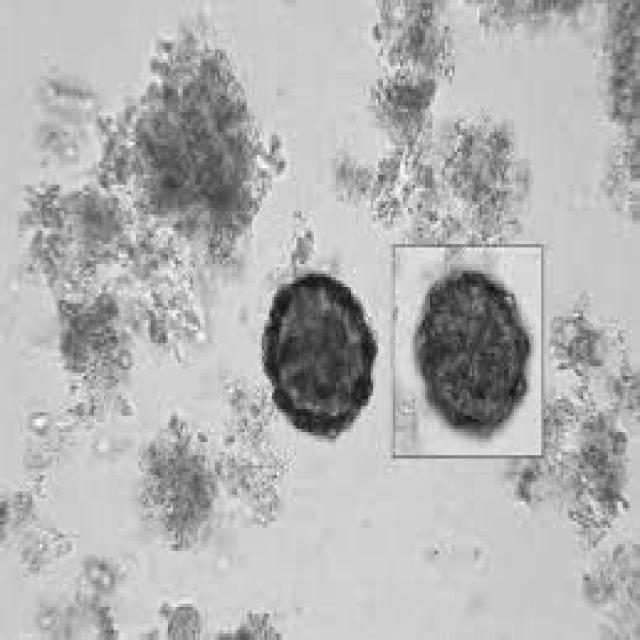Ascaris Lumbricoides: (410, 271, 539, 442), (257, 271, 378, 448)
